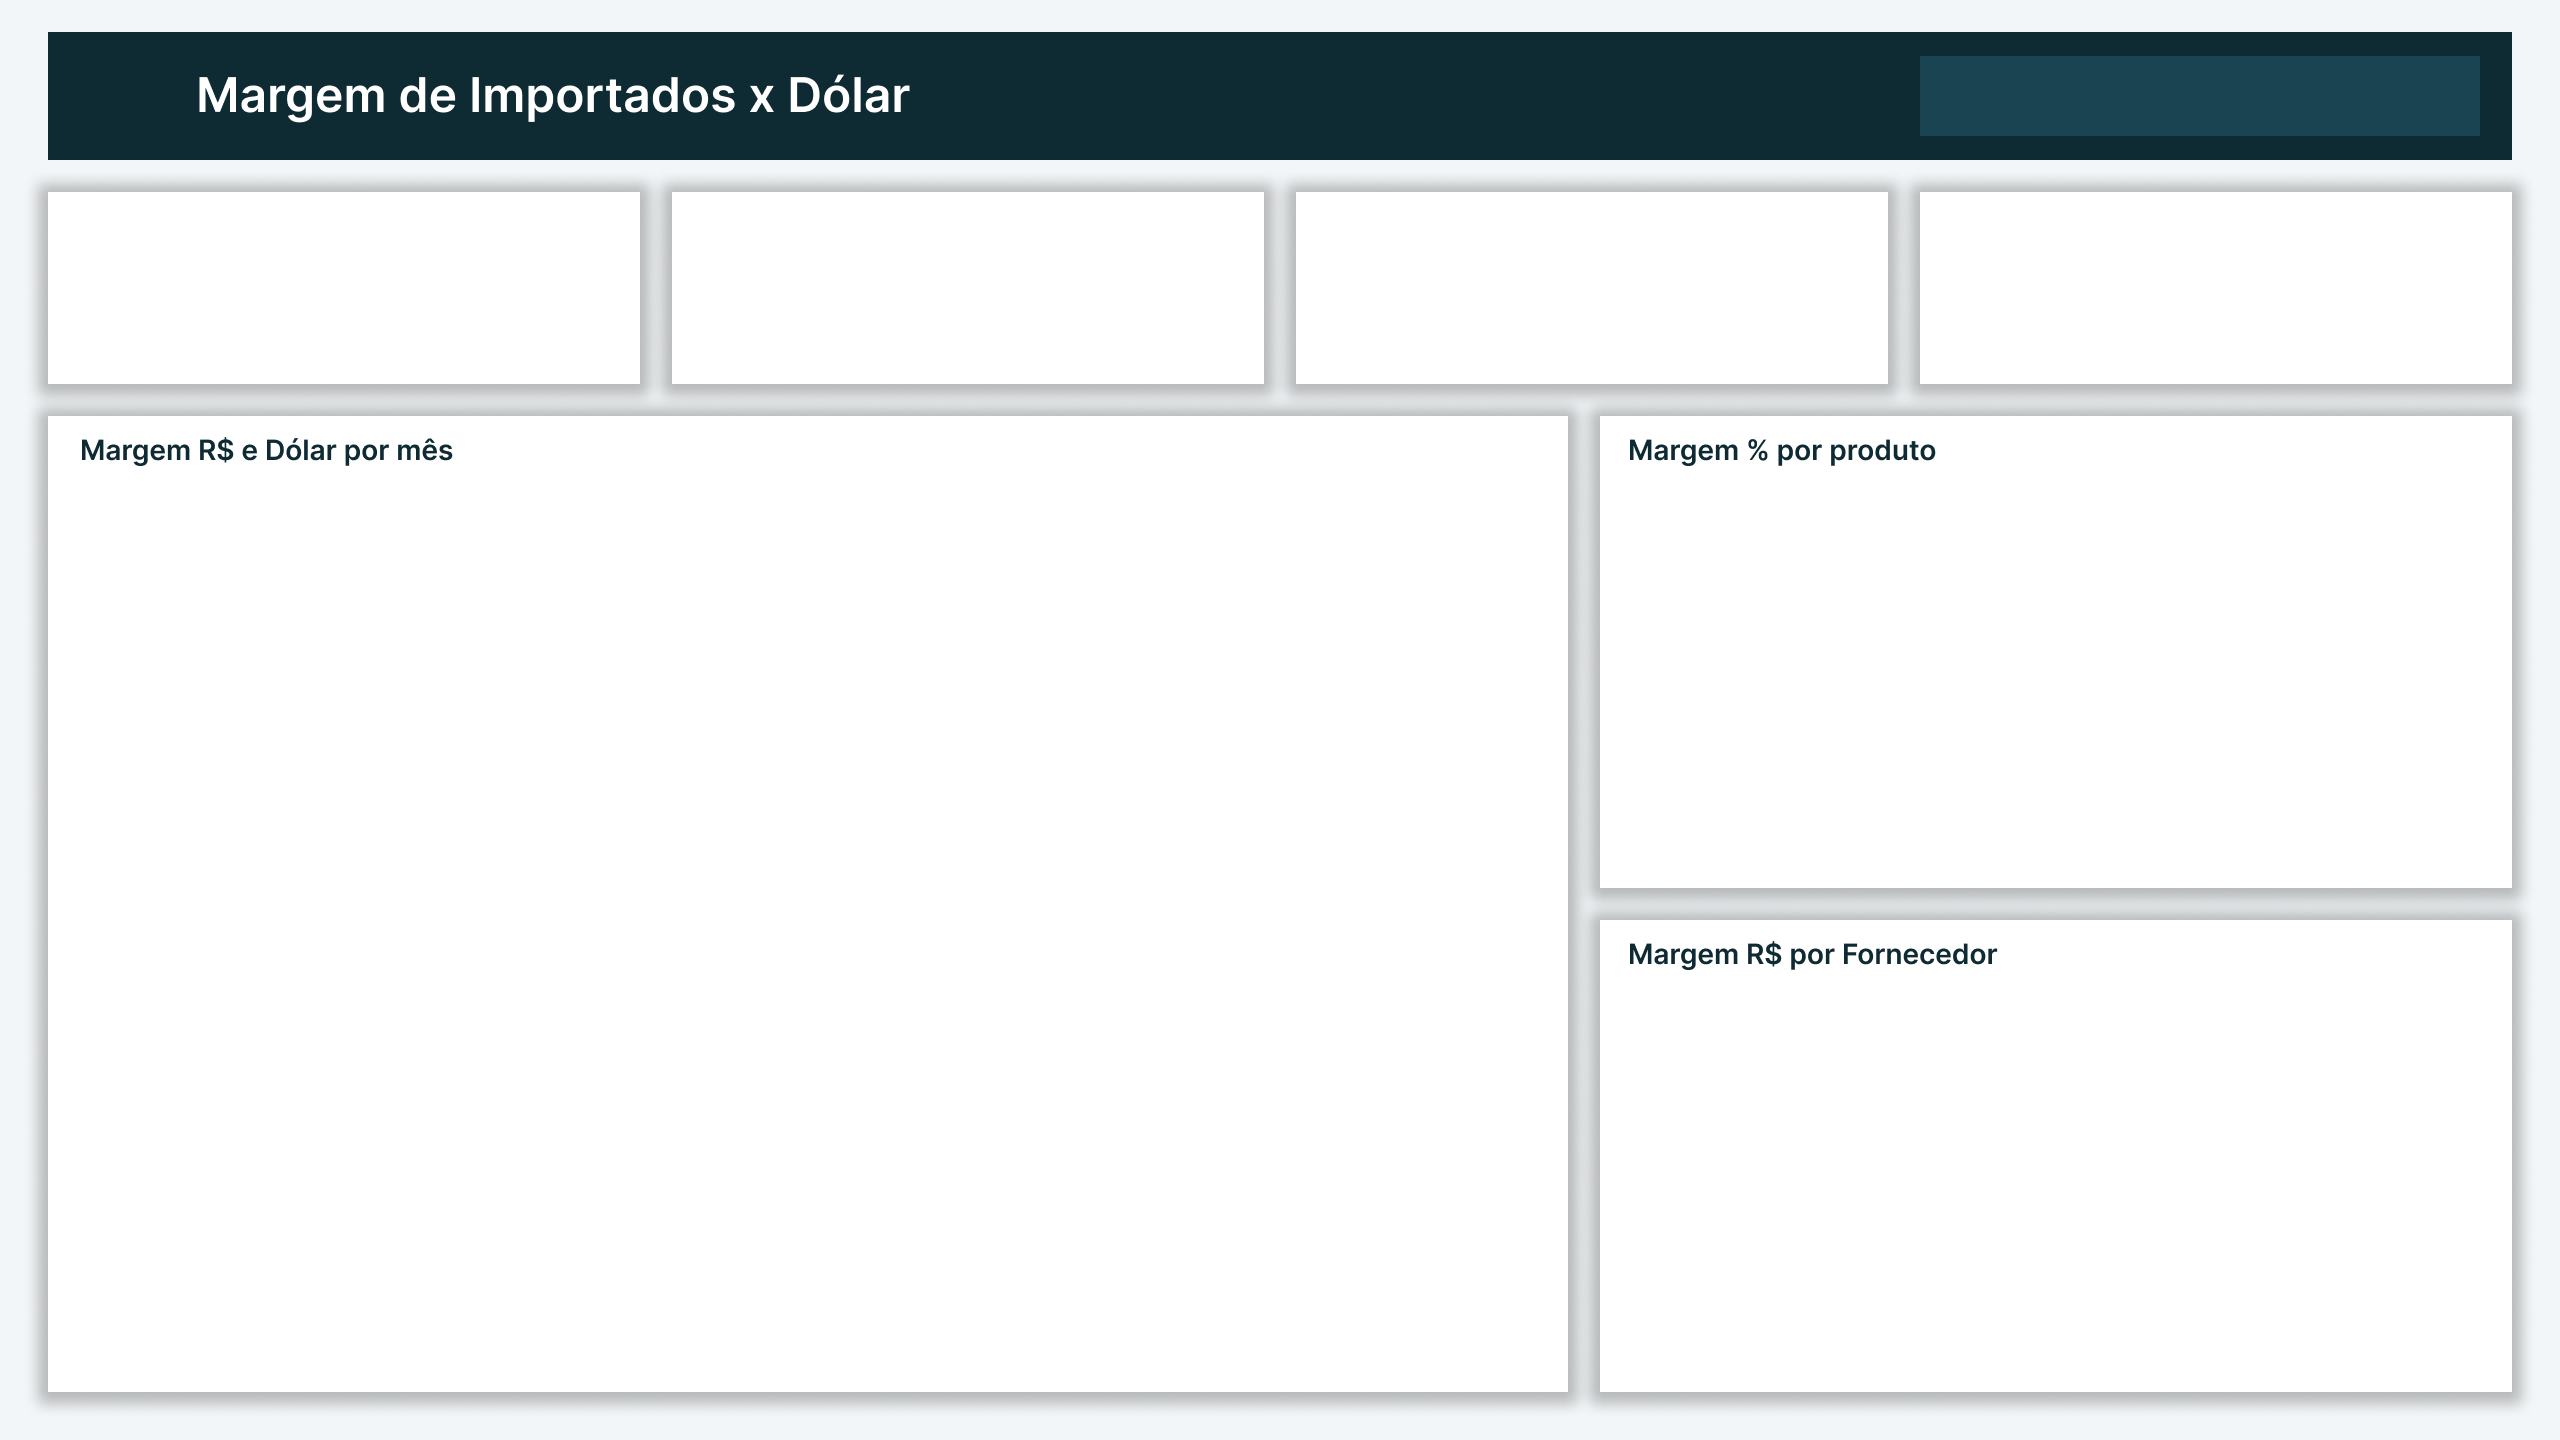

Layout of this report page (visuals, bound fields, positions):
{"tool":"powerbi","page":{"name":"Página 1","canvas":[1280,720],"ordinal":0},"visuals":[{"type":"card","title":"Receita Total (R$)","fields":{"Values":["Vendas.Receita_Total"]},"box":[24,93,296,96],"z":0},{"type":"card","title":"Custo (R$)","fields":{"Values":["Vendas.Custo R$"]},"box":[335,93,297,96],"z":1000},{"type":"card","title":"Margem (R$)","fields":{"Values":["Vendas.Margem R$"]},"box":[648,93,296,96],"z":2000},{"type":"card","title":"Margem (%)","fields":{"Values":["Vendas.Margem %"]},"box":[959,93,297,96],"z":3000},{"type":"lineClusteredColumnComboChart","fields":{"Category":["dCalendario.Date"],"Y":["Vendas.Margem %"],"Y2":["Vendas.Dolar_Medio"]},"box":[24,206,760,488],"z":3001},{"type":"clusteredBarChart","fields":{"Category":["Vendas.nome"],"Y":["Vendas.Margem %"]},"box":[799,222,457,220],"z":3002},{"type":"clusteredBarChart","fields":{"Category":["Vendas.fornecedor"],"Y":["Vendas.Margem R$"]},"box":[799,470,457,224],"z":3003},{"type":"image","box":[36,16,51,62],"z":3004},{"type":"slicer","fields":{"Values":["dProdutos.categoria"]},"box":[958.8,26.5,280.6,40],"z":3005}]}

Visuals, with their boxes in screenshot pixels (x1, y1, x2, y2), scaled from the page's 1280x720 canvas onto the 2560x1440 screenshot:
"Receita Total (R$)" card: Rect(48, 186, 640, 378)
"Custo (R$)" card: Rect(670, 186, 1264, 378)
"Margem (R$)" card: Rect(1296, 186, 1888, 378)
"Margem (%)" card: Rect(1918, 186, 2512, 378)
lineClusteredColumnComboChart - dCalendario.Date x Vendas.Margem %: Rect(48, 412, 1568, 1388)
clusteredBarChart - Vendas.nome x Vendas.Margem %: Rect(1598, 444, 2512, 884)
clusteredBarChart - Vendas.fornecedor x Vendas.Margem R$: Rect(1598, 940, 2512, 1388)
image: Rect(72, 32, 174, 156)
slicer - dProdutos.categoria: Rect(1918, 53, 2479, 133)
